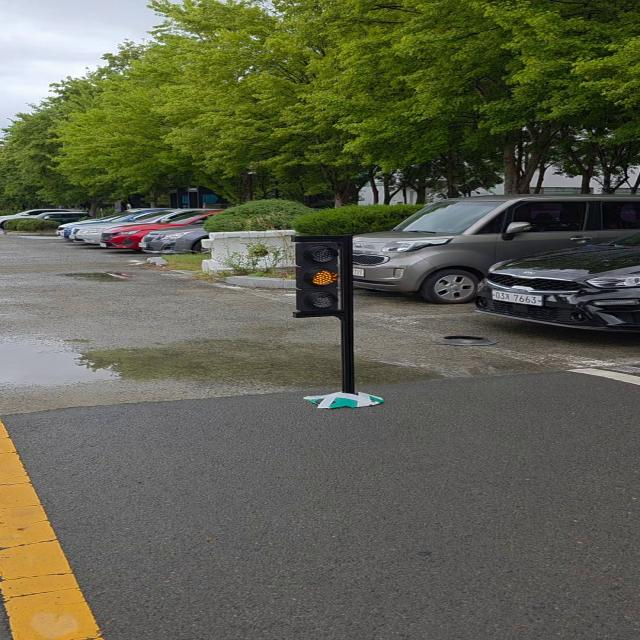yellow: (296, 237, 353, 315)
